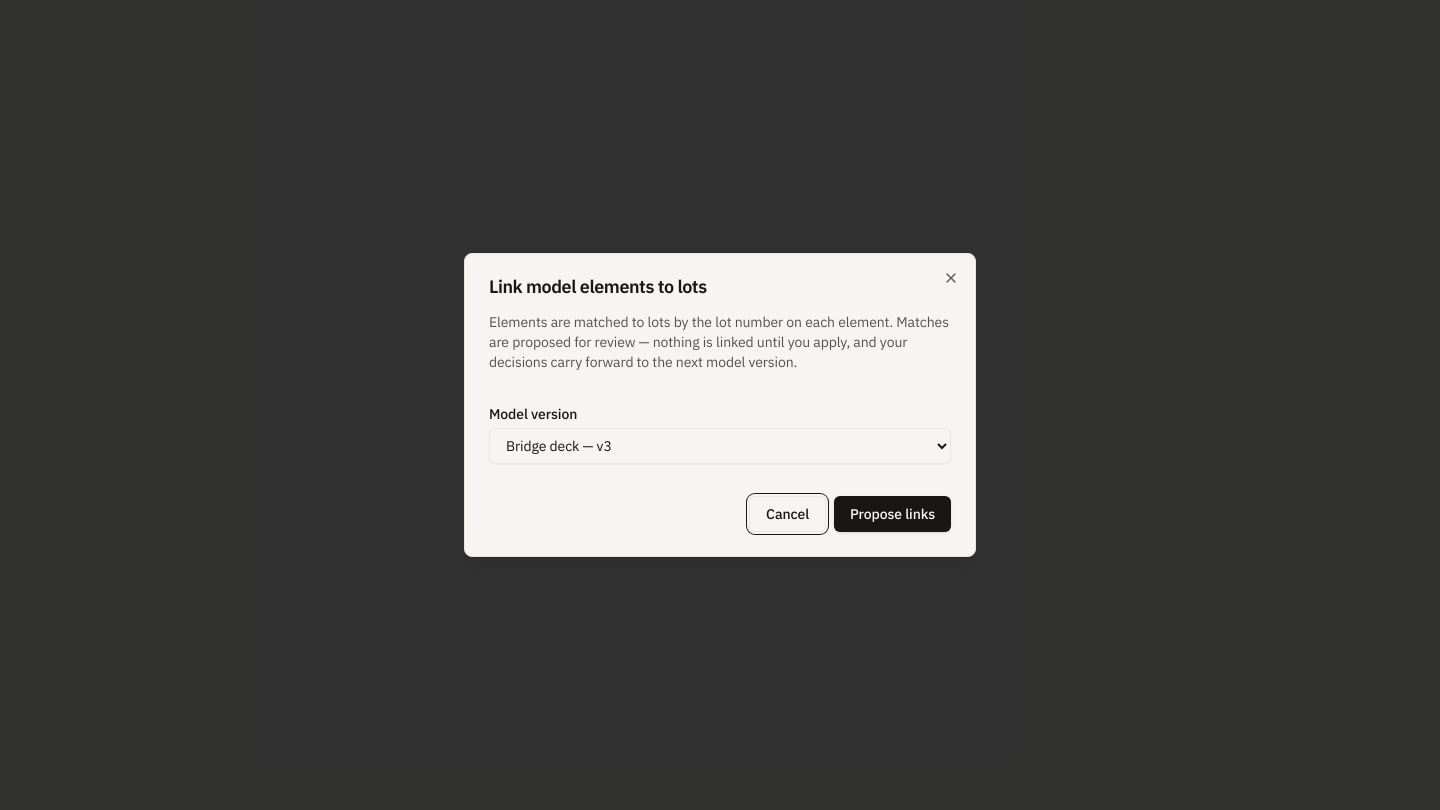
ModelLotLinkingReviewModal › with no proposal, proposes links for the picked ready version
The image size is (1440, 810).
Click the button "Propose links". click: (892, 514)
box: [834,496,951,532]
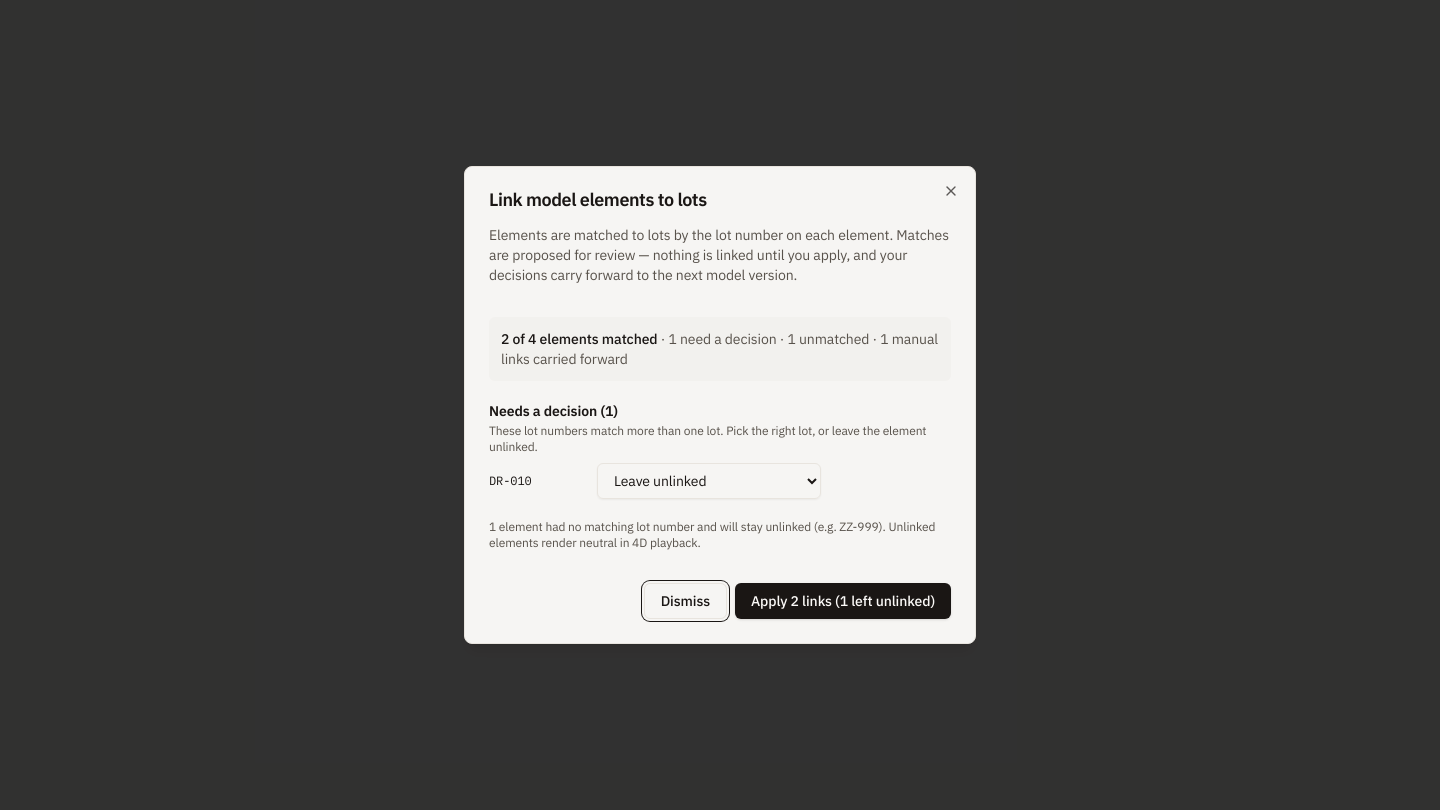
Now the element with test id "linking-summary" is shown, box [489,317,951,381]
